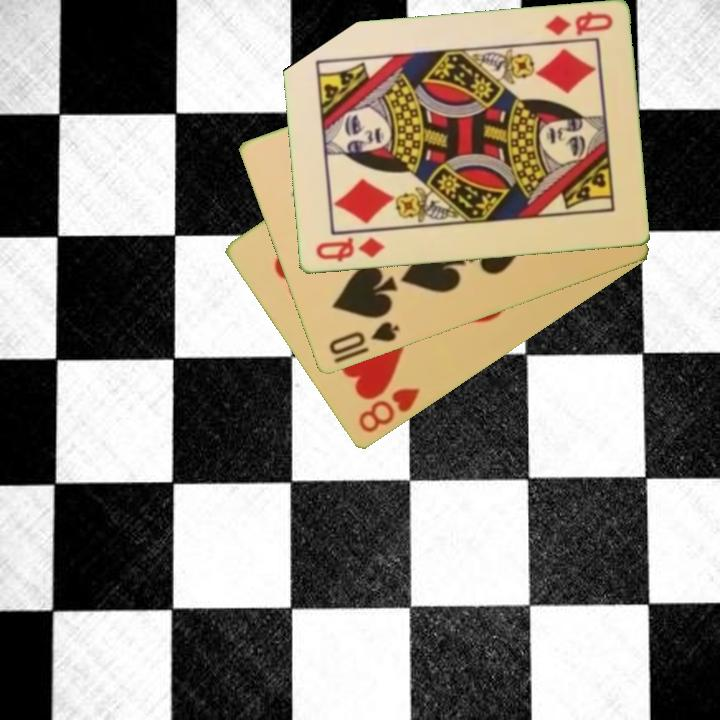10s: (325, 318, 402, 359)
8h: (354, 384, 423, 437)
Qd: (312, 234, 387, 265), (541, 8, 616, 39)
